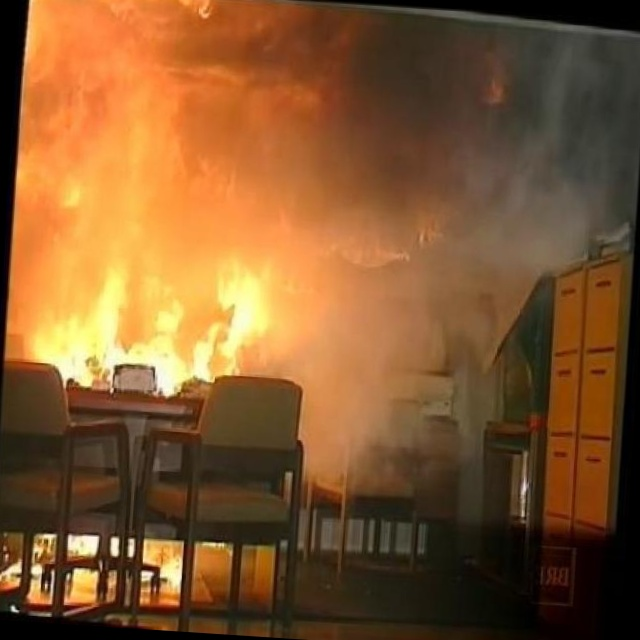fire: (4, 121, 298, 392)
smoke: (384, 12, 640, 292)
